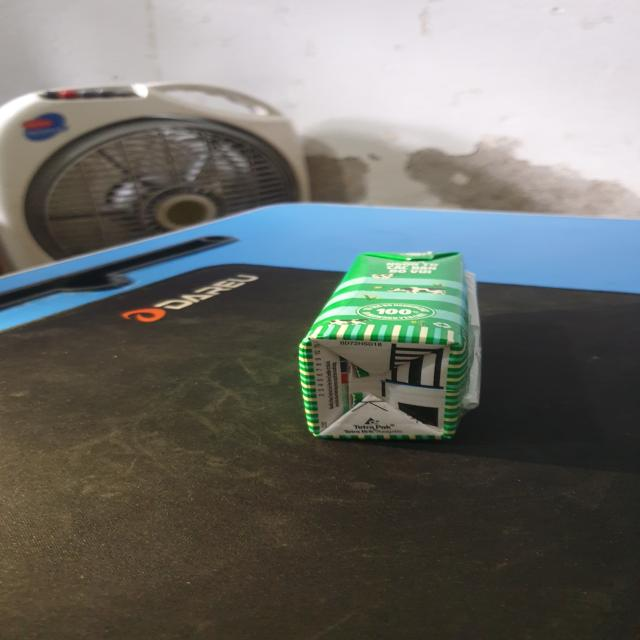Vina: (292, 244, 489, 444)
